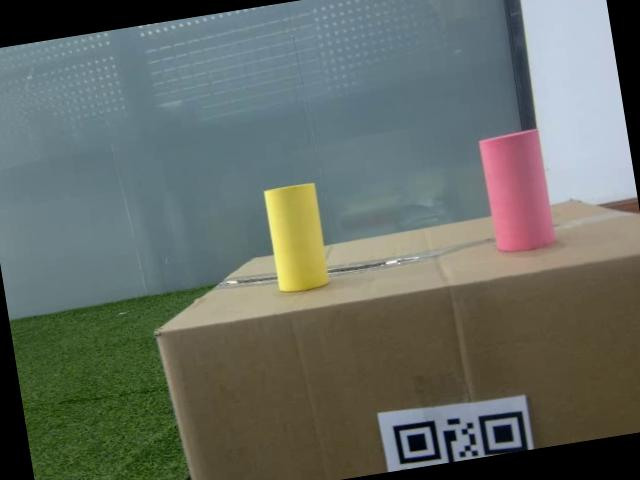red_cylinder: (474, 125, 562, 261)
yellow_cylinder: (258, 174, 332, 300)
